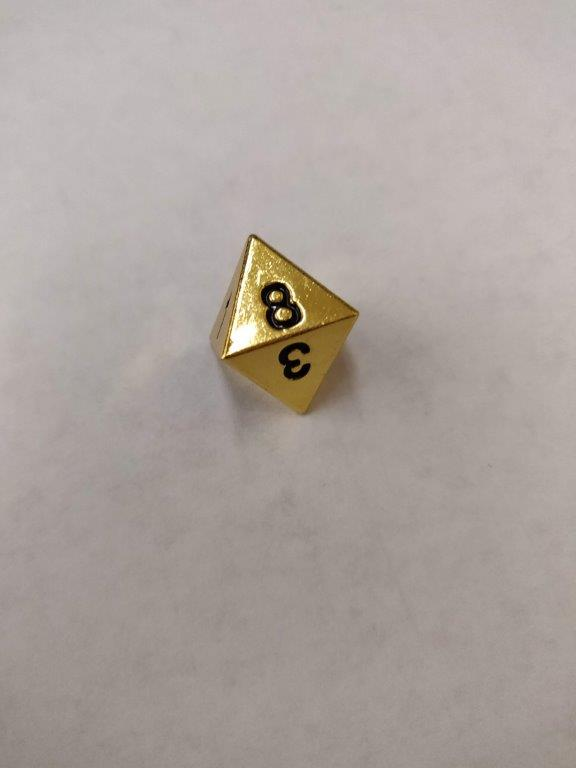d8-8: (206, 235, 362, 414)
